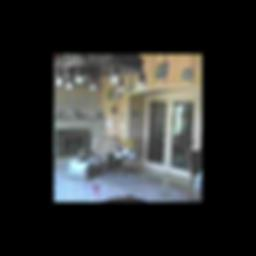Puerta: (148, 98, 194, 173)
